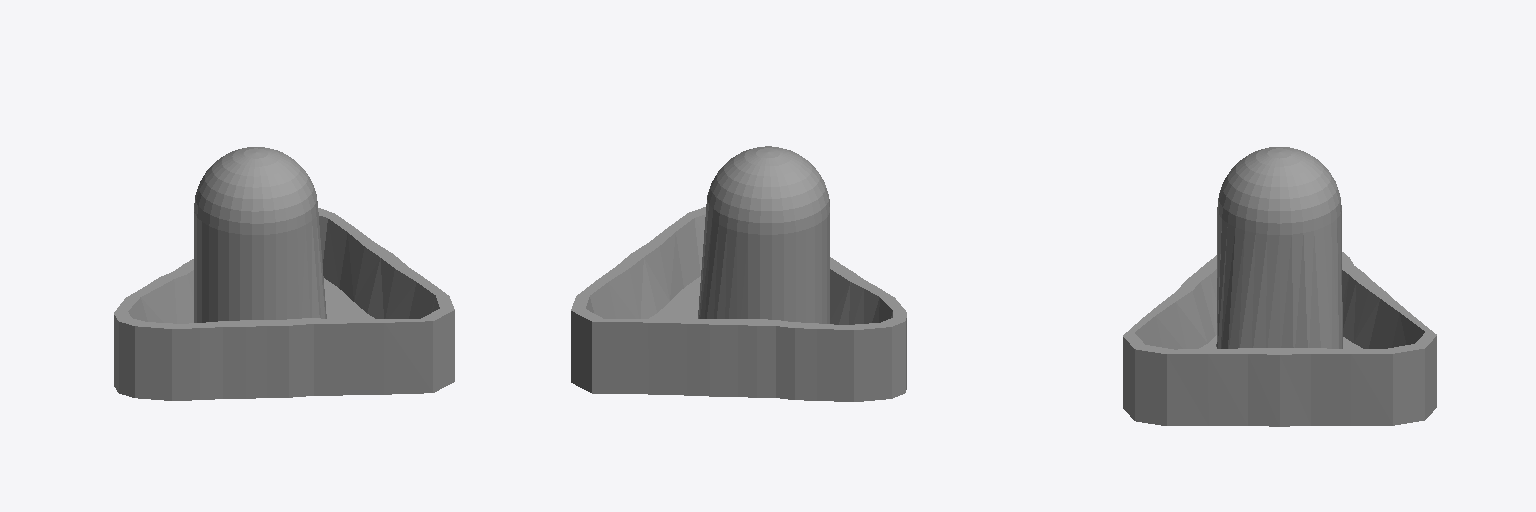
File: Paddle_Triangle2.obj
3 views of the same model, side by side, from view 1: azimuth 30°, elevation 25°; view 2: azimuth 150°, elevation 25°; view 3: azimuth 270°, elevation 25° (orthographic).
Parts seen in each view (by area): view 1: Mesh_Cylinder.002; view 2: Mesh_Cylinder.002; view 3: Mesh_Cylinder.002.
Boxes of the visible parts, box(x1,y1,x2,y2) form: Mesh_Cylinder.002: box(114, 147, 454, 400); Mesh_Cylinder.002: box(571, 146, 906, 401); Mesh_Cylinder.002: box(1123, 147, 1436, 426).
Size of the model in its own units: 2 by 1.44 by 1.98.